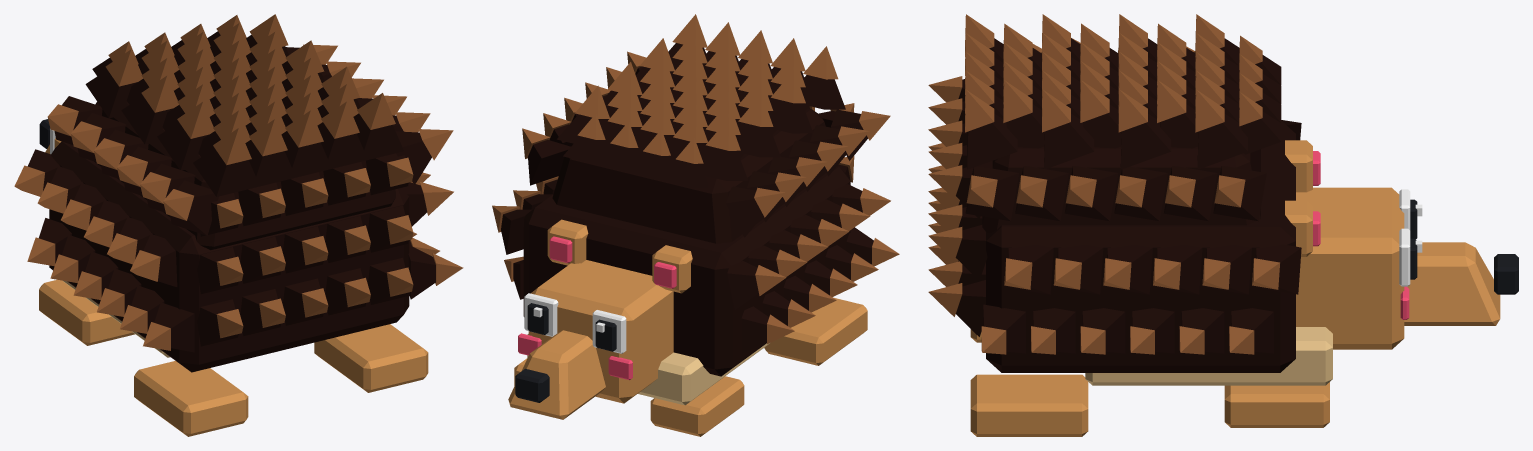
File: Hedgehog.fbx
3 views of the same model, side by side, from view 1: azimuth 30°, elevation 25°; view 2: azimuth 150°, elevation 25°; view 3: azimuth 270°, elevation 25° (orthographic). The views are drawn at different scales.
Visible parts, largest first — view 1: Hedgehog; view 2: Hedgehog; view 3: Hedgehog.
Boxes of the visible parts, x1,y1,x2,y2 form: Hedgehog: (14, 14, 463, 436); Hedgehog: (492, 14, 899, 436); Hedgehog: (928, 14, 1518, 436).
Bounding box in the file's own units: 649 × 577 × 954.
